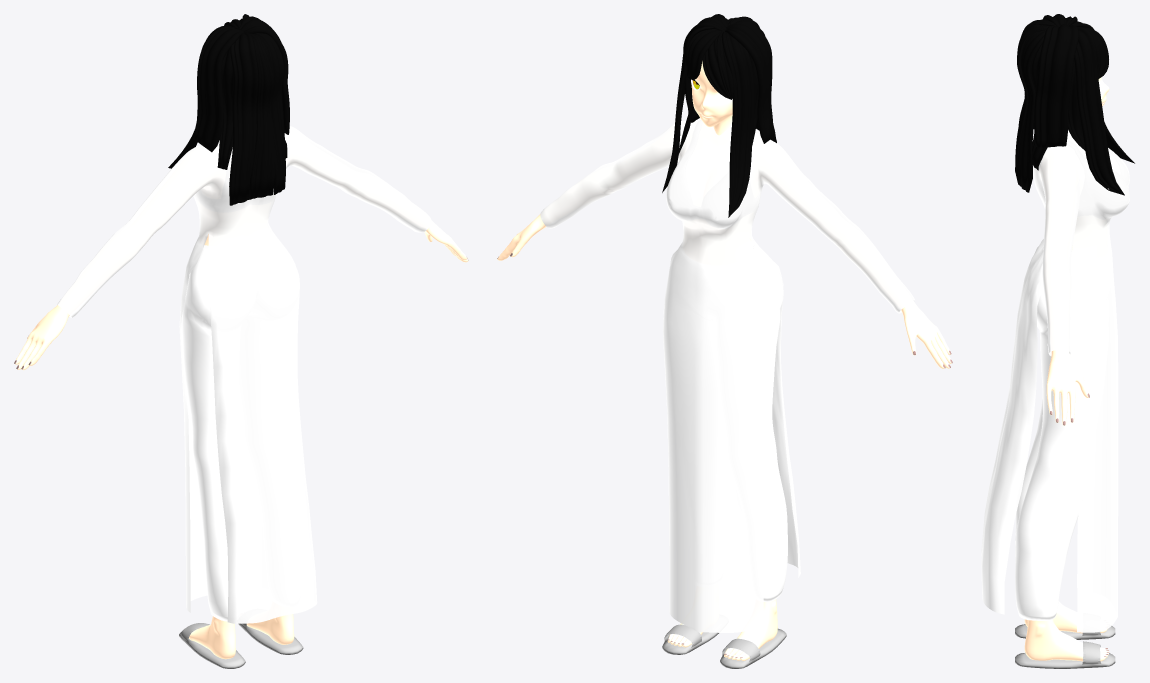
The model's file is female2.glb.
The picture shows the model from 3 angles, left to right: view 1: azimuth 30°, elevation 25°; view 2: azimuth 150°, elevation 25°; view 3: azimuth 270°, elevation 25°; orthographic projection.
Visible parts, largest first — view 1: aodai.001, hair, pant, body, Cube; view 2: aodai.001, hair, pant, body, Cube; view 3: aodai.001, hair, pant, body, Cube.
Boxes of the visible parts, x1,y1,x2,y2 form: aodai.001: (57, 126, 431, 623); hair: (168, 14, 289, 205); pant: (182, 245, 299, 621); body: (14, 220, 468, 659); Cube: (179, 623, 303, 668); aodai.001: (540, 118, 914, 632); hair: (662, 14, 776, 217); pant: (752, 245, 787, 601); body: (497, 61, 952, 660); Cube: (662, 624, 786, 668); aodai.001: (981, 130, 1129, 632); hair: (1015, 14, 1134, 195); pant: (1015, 255, 1083, 620); body: (1024, 77, 1109, 661); Cube: (1015, 624, 1115, 668).
Size of the model in its own units: 2.74 by 3.62 by 0.8053.
Materials: 10 (5 with a texture image).
